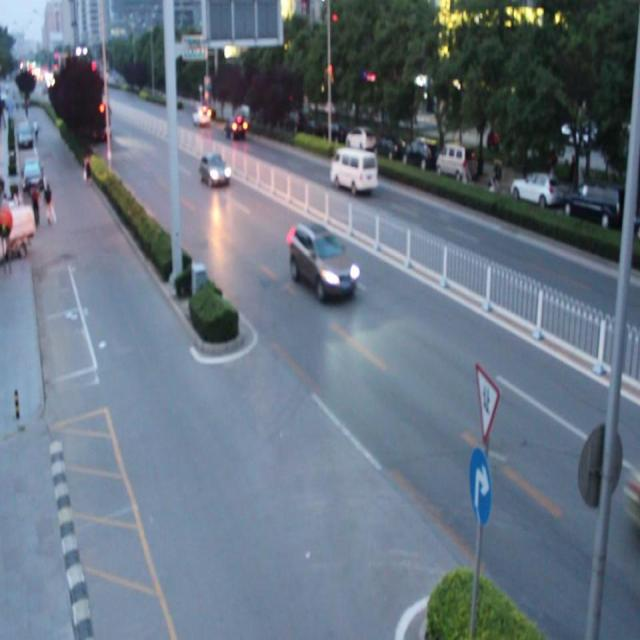car: (286, 219, 356, 305), (198, 148, 231, 186), (225, 112, 244, 136)
truck: (330, 145, 376, 196)
